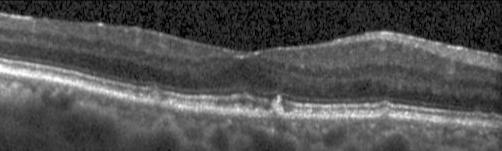retinal_drusen: (270, 99, 286, 118), (148, 89, 163, 106), (240, 105, 253, 116), (254, 106, 266, 116), (470, 121, 484, 127), (381, 110, 390, 118), (490, 123, 501, 129)
